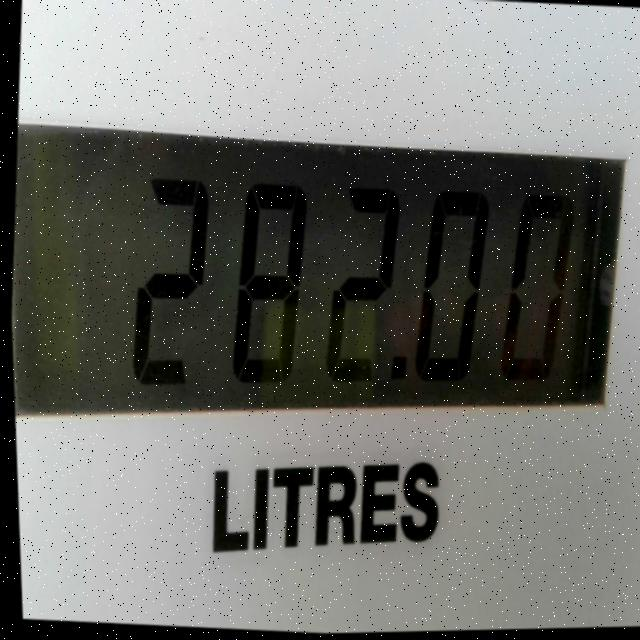.: (384, 352, 406, 382)
0: (402, 185, 489, 378), (492, 195, 569, 395)
2: (125, 175, 213, 395), (319, 191, 398, 389)
8: (222, 183, 308, 396)
